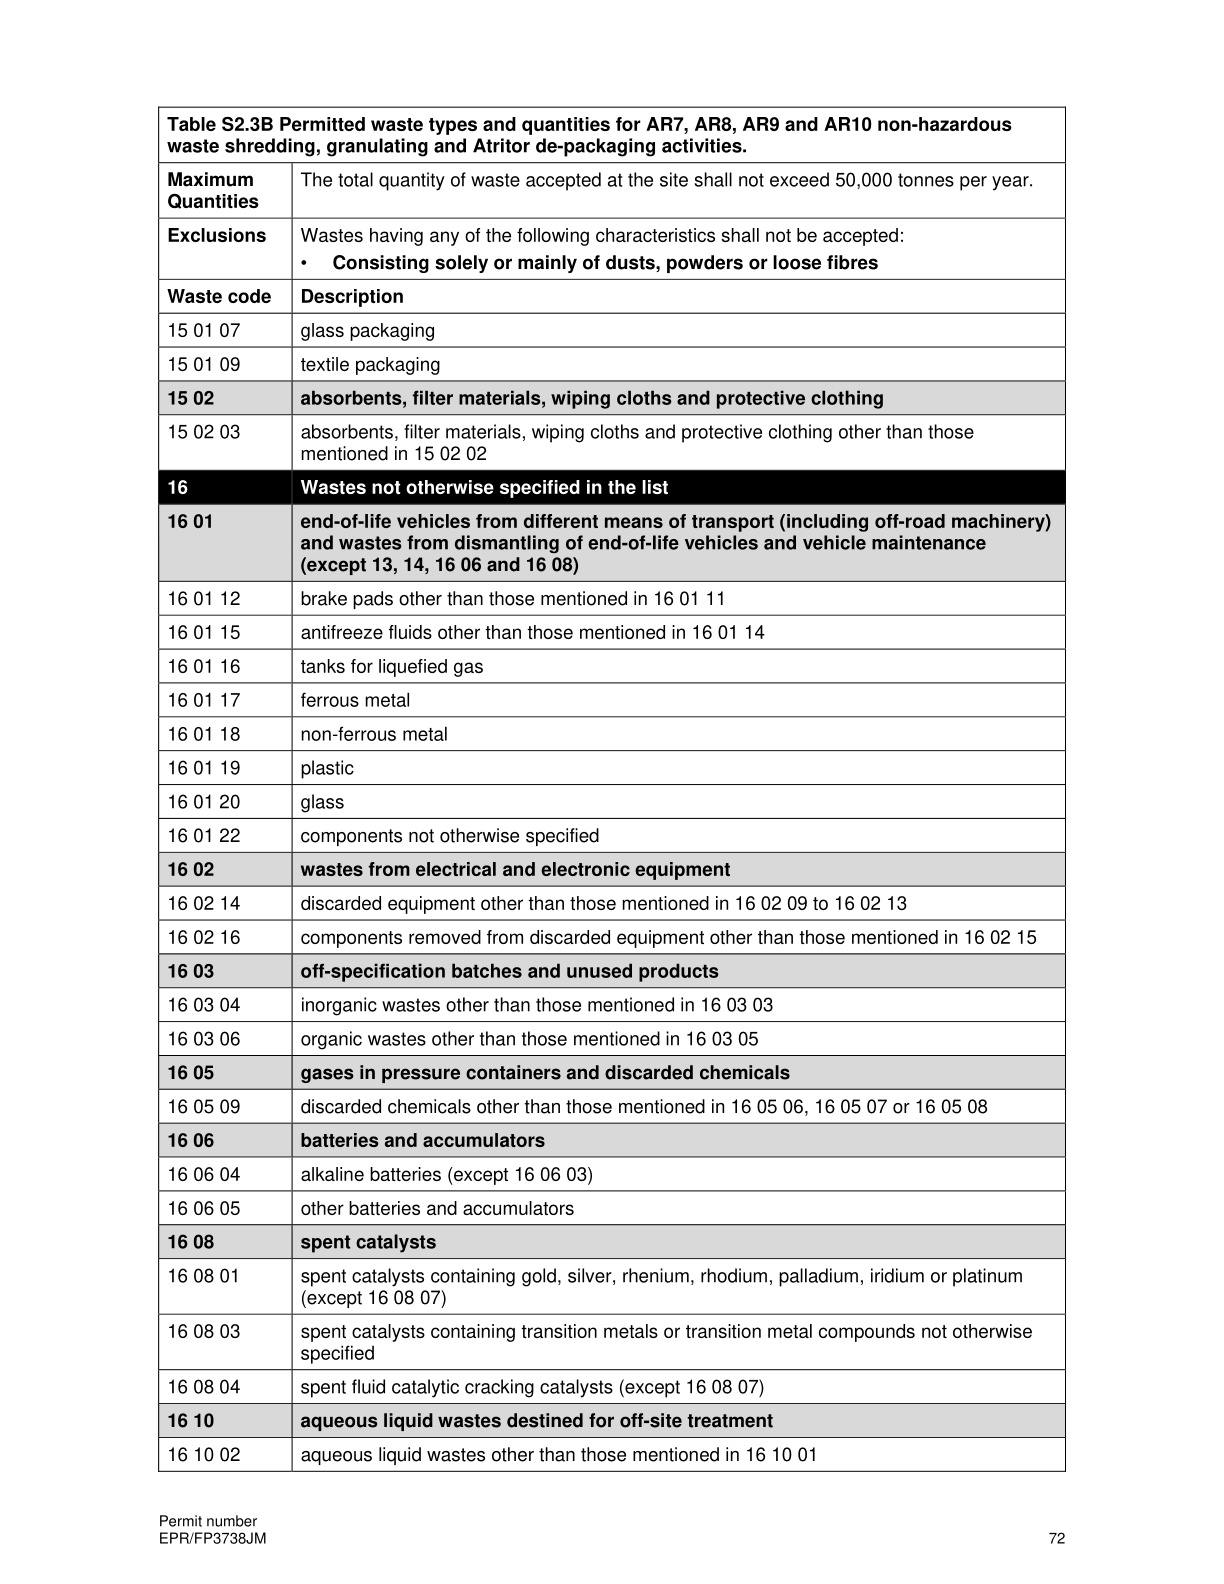merged_cells: (156, 105, 1068, 1473)
